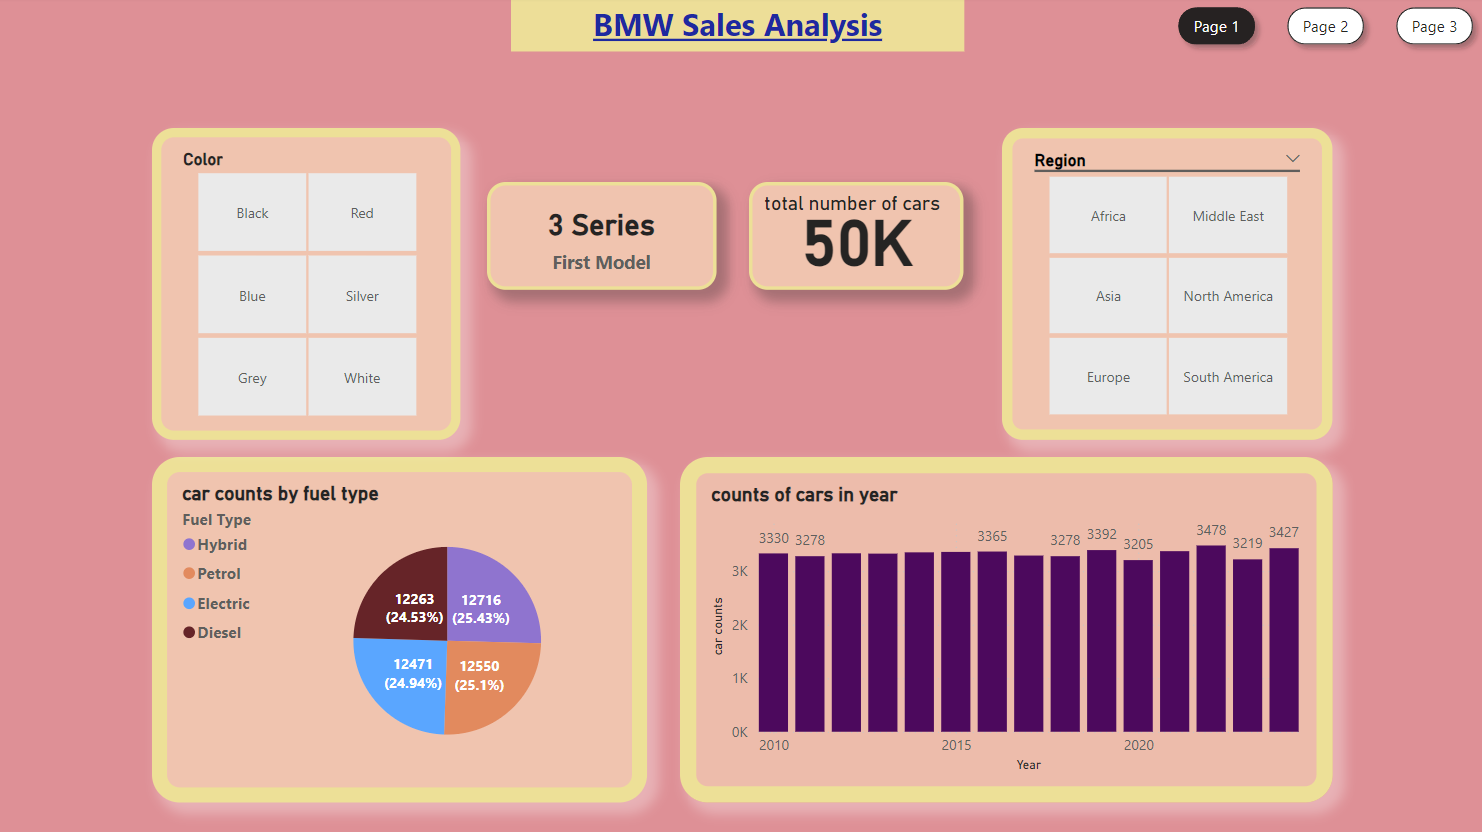

The dashboard page shown, as its layout file describes it:
{"tool":"powerbi","page":{"name":"Page 1","canvas":[1280,720],"ordinal":0},"visuals":[{"type":"slicer","fields":{"Values":["BMW_Car_Sales_Classification.Region"]},"box":[864.6,113.1,284.8,268.7],"z":0},{"type":"columnChart","title":"counts of cars in year","fields":{"Category":["BMW_Car_Sales_Classification.Year"],"Y":["BMW_Car_Sales_Classification.car_counts"]},"box":[586.9,397,562.6,298],"z":1000},{"type":"card","title":"total number of cars","fields":{"Values":["BMW_Car_Sales_Classification.car_counts"]},"box":[646.5,159.6,184.8,92.9],"z":2000},{"type":"pieChart","title":"car counts by fuel type","fields":{"Category":["BMW_Car_Sales_Classification.Fuel_Type"],"Y":["BMW_Car_Sales_Classification.car_counts"]},"box":[131.3,397,427.3,298],"z":3000},{"type":"slicer","fields":{"Values":["BMW_Car_Sales_Classification.Color"]},"box":[131.1,113,265.7,269.1],"z":4000},{"type":"textbox","box":[440.4,0,390.9,47.1],"z":5000},{"type":"card","fields":{"Values":["Min(BMW_Car_Sales_Classification.Model)"]},"box":[420.1,159.6,197.5,93.2],"z":6000},{"type":"pageNavigator","box":[1007.1,0,272.7,50.5],"z":7000}]}

Visuals, with their boxes in screenshot pixels (x1, y1, x2, y2), scaled from the page's 1280x720 canvas onto the 1482x832 screenshot:
slicer - BMW_Car_Sales_Classification.Region: Rect(1001, 131, 1331, 441)
"counts of cars in year" columnChart: Rect(680, 459, 1331, 803)
"total number of cars" card: Rect(749, 184, 962, 292)
"car counts by fuel type" pieChart: Rect(152, 459, 647, 803)
slicer - BMW_Car_Sales_Classification.Color: Rect(152, 131, 459, 442)
textbox: Rect(510, 0, 962, 54)
card - Min(BMW_Car_Sales_Classification.Model): Rect(486, 184, 715, 292)
pageNavigator: Rect(1166, 0, 1481, 58)
